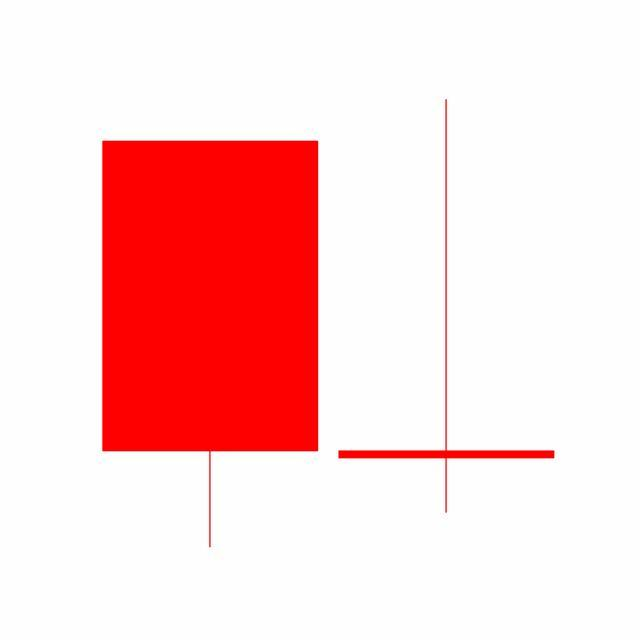Spinning Top: (328, 95, 566, 518)
